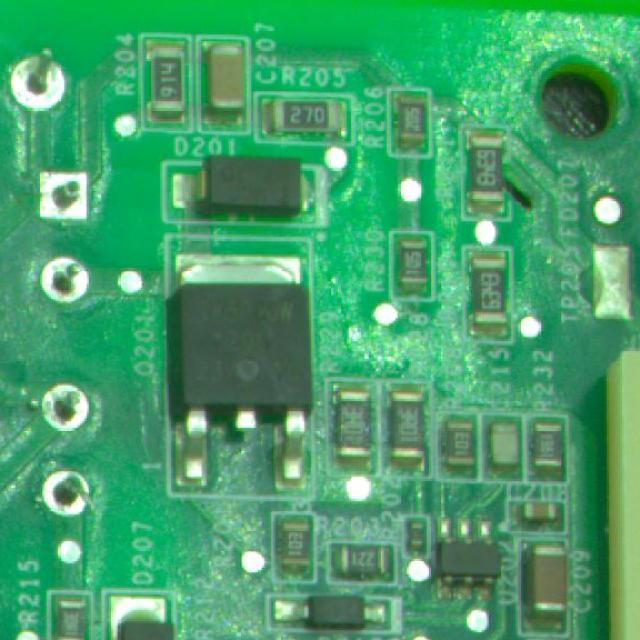Insufficient solder: (0, 47, 77, 120), (36, 466, 100, 534), (32, 248, 94, 314), (34, 170, 104, 227), (37, 376, 90, 434)
